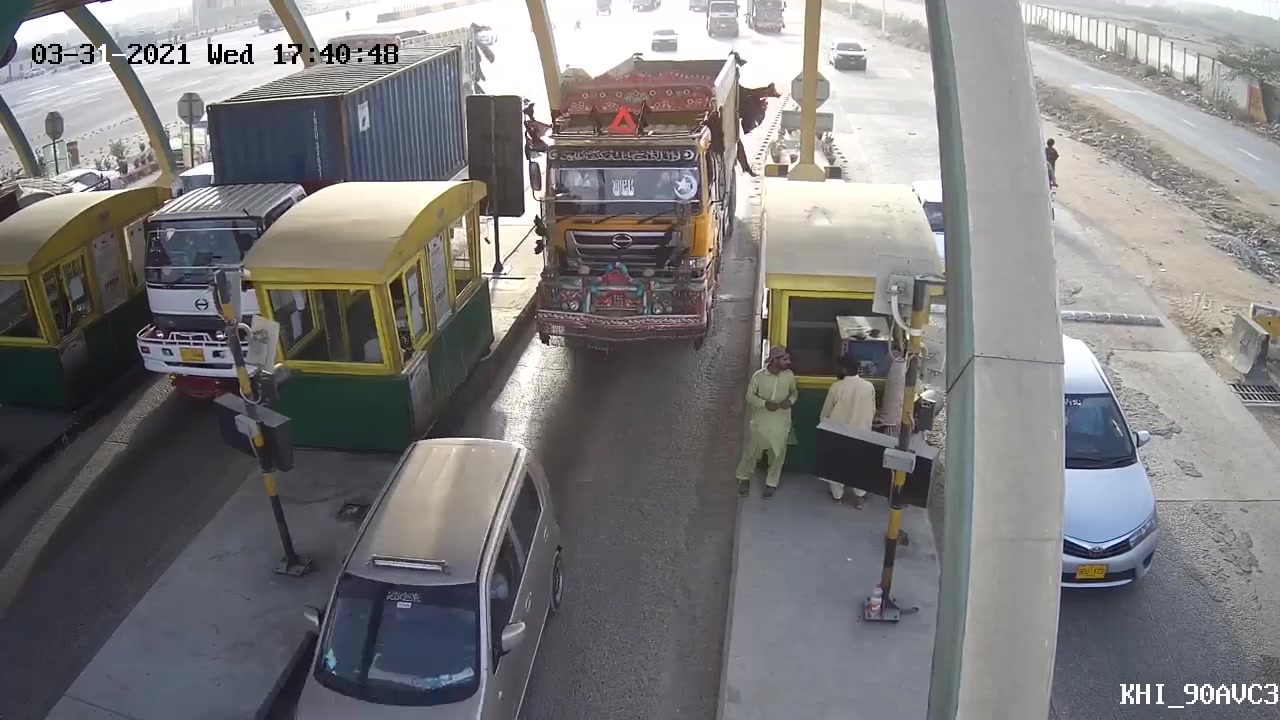F5: (529, 39, 760, 348)
